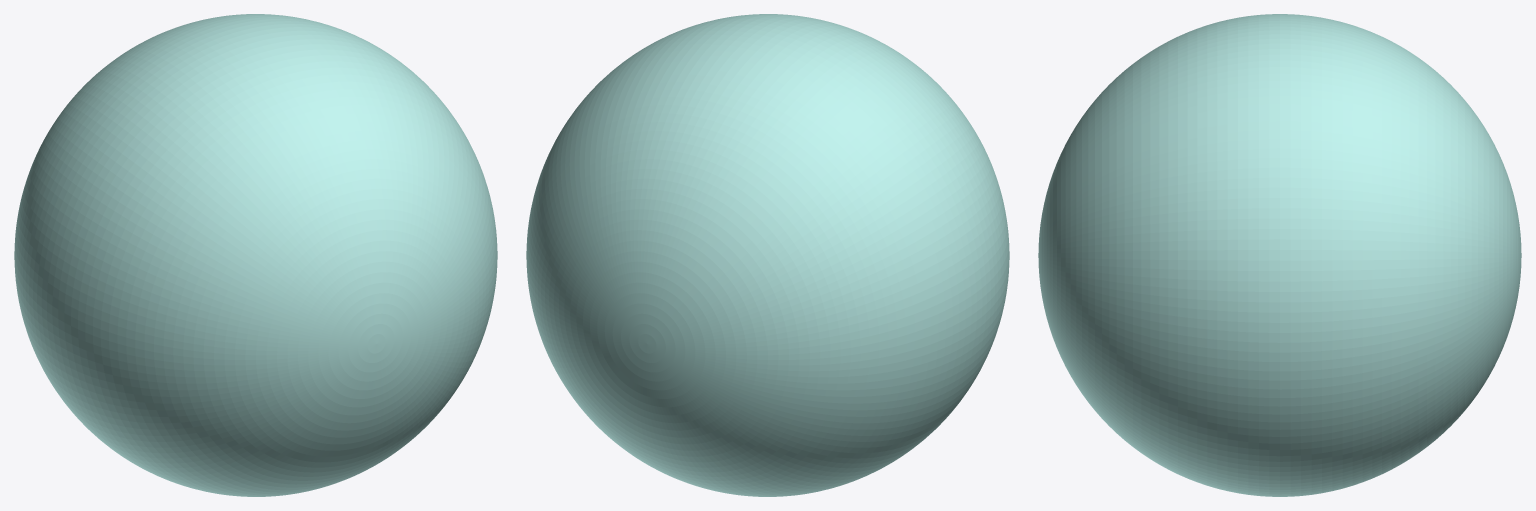
File: EEZYbotARM_Mk2_robot_base_vis_6.dae
3 views of the same model, side by side, from view 1: azimuth 30°, elevation 25°; view 2: azimuth 150°, elevation 25°; view 3: azimuth 270°, elevation 25° (orthographic).
Visible parts, largest first — view 1: node; view 2: node; view 3: node.
Part boxes in pixels (x1,y1,x2,y2): node: (14, 14, 497, 496); node: (526, 14, 1009, 496); node: (1038, 14, 1521, 496).
Size of the model in its own units: 0.006 by 0.006 by 0.006.
